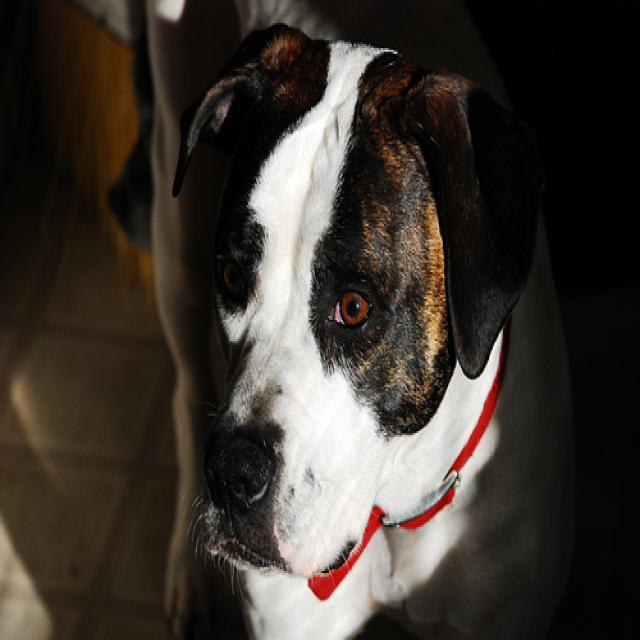dog-american_bulldog: (140, 2, 580, 636)
